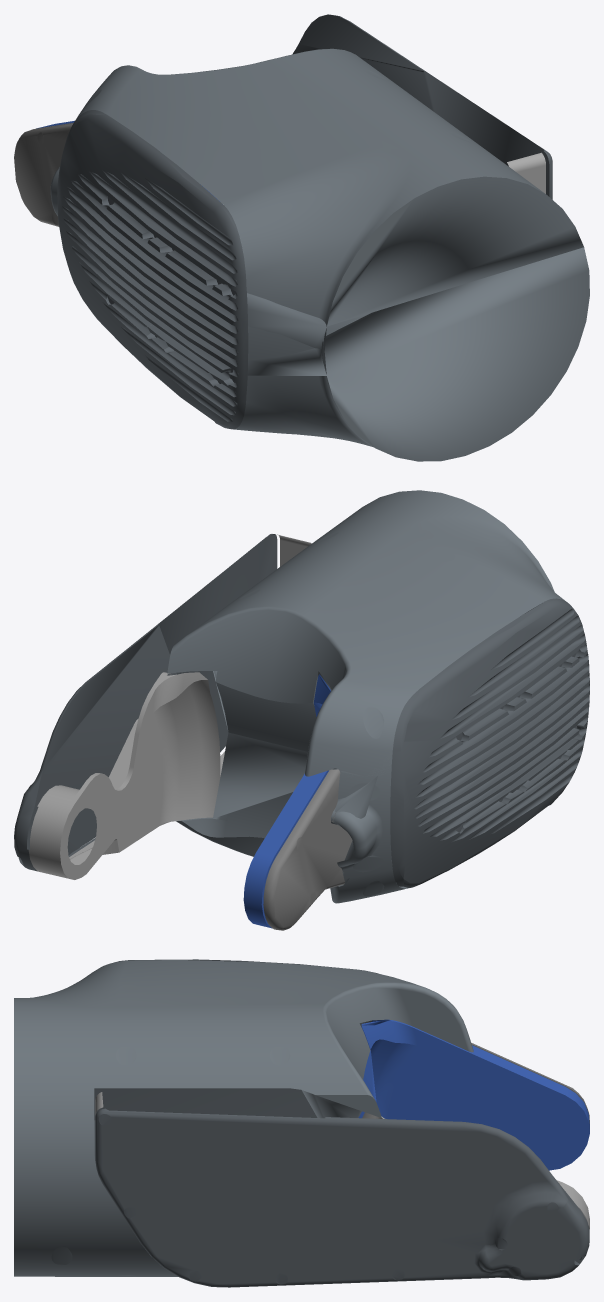
File: LeftWristYawLink.obj
3 renders of one model, top to bottom at view 1: azimuth 30°, elevation 25°; view 2: azimuth 150°, elevation 25°; view 3: azimuth 270°, elevation 25°, orthographic. The views are drawn at different scales.
Parts seen in each view (by area): view 1: N17_24_P02_11_L_Forearm_cover_Outside, N17_24_P02_10_L_Forearm_cover_Inside, N17_24_P02_08_Forearm_Heatsink, N17_24_P02_05_L_Forearm_Inside_structure_lid, N17_24_P02_07_L_Forearm_Outside_structure_lid, N17_24_P02_06_L_Forearm_Inside_structure; view 2: N17_24_P02_11_L_Forearm_cover_Outside, N17_24_P02_08_Forearm_Heatsink, N17_24_P02_06_L_Forearm_Inside_structure, N17_24_P02_05_L_Forearm_Inside_structure_lid, N17_24_P02_10_L_Forearm_cover_Inside, N17_24_P02_07_L_Forearm_Outside_structure_lid, N17_24_P02_09_L_Cable_Clamp_Forearm_front, N17_24_P02_01_L_Forearm_Outside_structure; view 3: N17_24_P02_05_L_Forearm_Inside_structure_lid, N17_24_P02_11_L_Forearm_cover_Outside, N17_24_P02_01_L_Forearm_Outside_structure, N17_24_P02_10_L_Forearm_cover_Inside, N17_24_P02_08_Forearm_Heatsink, N17_24_P02_06_L_Forearm_Inside_structure.
Boxes of the visible parts, x1,y1,x2,y2 form: N17_24_P02_11_L_Forearm_cover_Outside: (76,48,583,351); N17_24_P02_10_L_Forearm_cover_Inside: (233,237,589,461); N17_24_P02_08_Forearm_Heatsink: (57,110,248,429); N17_24_P02_05_L_Forearm_Inside_structure_lid: (292,14,552,199); N17_24_P02_07_L_Forearm_Outside_structure_lid: (14,122,73,226); N17_24_P02_06_L_Forearm_Inside_structure: (507,152,545,193); N17_24_P02_11_L_Forearm_cover_Outside: (167,490,571,777); N17_24_P02_08_Forearm_Heatsink: (390,598,589,887); N17_24_P02_06_L_Forearm_Inside_structure: (28,534,311,879); N17_24_P02_05_L_Forearm_Inside_structure_lid: (14,534,277,871); N17_24_P02_10_L_Forearm_cover_Inside: (176,647,473,903); N17_24_P02_07_L_Forearm_Outside_structure_lid: (263,769,352,930); N17_24_P02_09_L_Cable_Clamp_Forearm_front: (331,774,393,878); N17_24_P02_01_L_Forearm_Outside_structure: (243,674,330,928); N17_24_P02_05_L_Forearm_Inside_structure_lid: (95,1108,589,1287); N17_24_P02_11_L_Forearm_cover_Outside: (14,960,473,1155); N17_24_P02_01_L_Forearm_Outside_structure: (358,1019,589,1170); N17_24_P02_10_L_Forearm_cover_Inside: (14,1120,177,1276); N17_24_P02_08_Forearm_Heatsink: (94,959,376,1120); N17_24_P02_06_L_Forearm_Inside_structure: (95,1092,589,1229).
Bounding box in the file's own units: 0.1139 × 0.087 × 0.1797.
